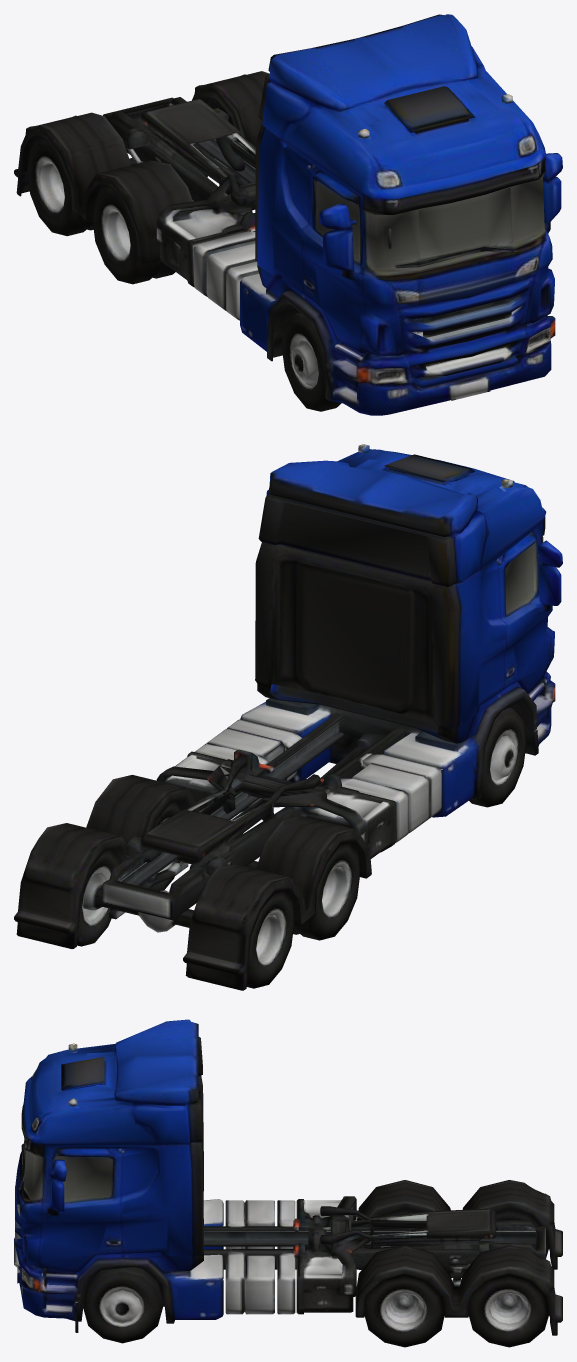
The model's file is truck-blue.glb.
3 views of the same model, one above another, from view 1: azimuth 30°, elevation 25°; view 2: azimuth 150°, elevation 25°; view 3: azimuth 270°, elevation 25° (orthographic). The views are drawn at different scales.
Visible parts, largest first — view 1: tripo_node_8b4a7ceb-ae08-41f9-8a4b-0dd5fed31b6e; view 2: tripo_node_8b4a7ceb-ae08-41f9-8a4b-0dd5fed31b6e; view 3: tripo_node_8b4a7ceb-ae08-41f9-8a4b-0dd5fed31b6e.
Part boxes in pixels (<box>): tripo_node_8b4a7ceb-ae08-41f9-8a4b-0dd5fed31b6e: <box>14,14,562,415</box>; tripo_node_8b4a7ceb-ae08-41f9-8a4b-0dd5fed31b6e: <box>14,444,562,990</box>; tripo_node_8b4a7ceb-ae08-41f9-8a4b-0dd5fed31b6e: <box>14,1019,562,1347</box>.
Bounding box in the file's own units: 2.57 × 3.26 × 6.4.
Materials: 1 (1 with a texture image).
